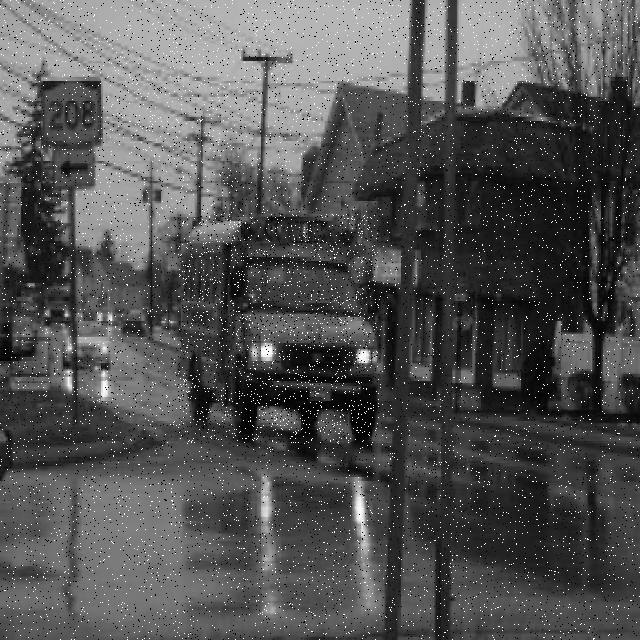Bus- Small: (178, 214, 379, 443)
